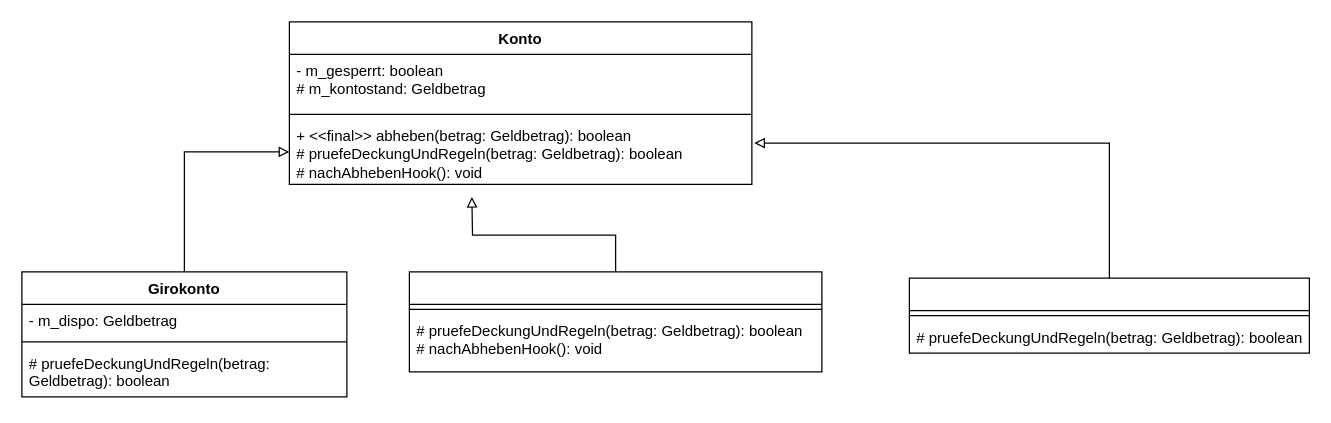
This 1331x423 diagram has some shape labels left out. The box of each missing label's shape, as (x1, y1, x2, y2) in pixels:
Aktienkonto: (908, 277, 1309, 353)
Sparbuch: (408, 271, 822, 372)
